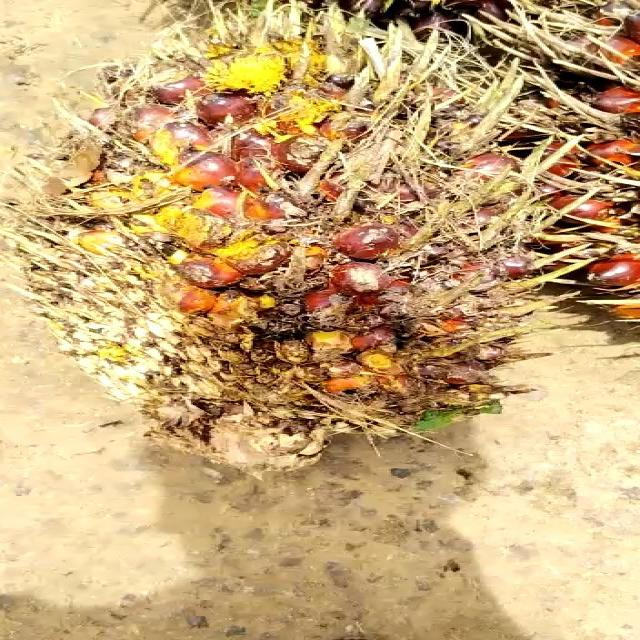palm oil: (5, 18, 619, 486)
